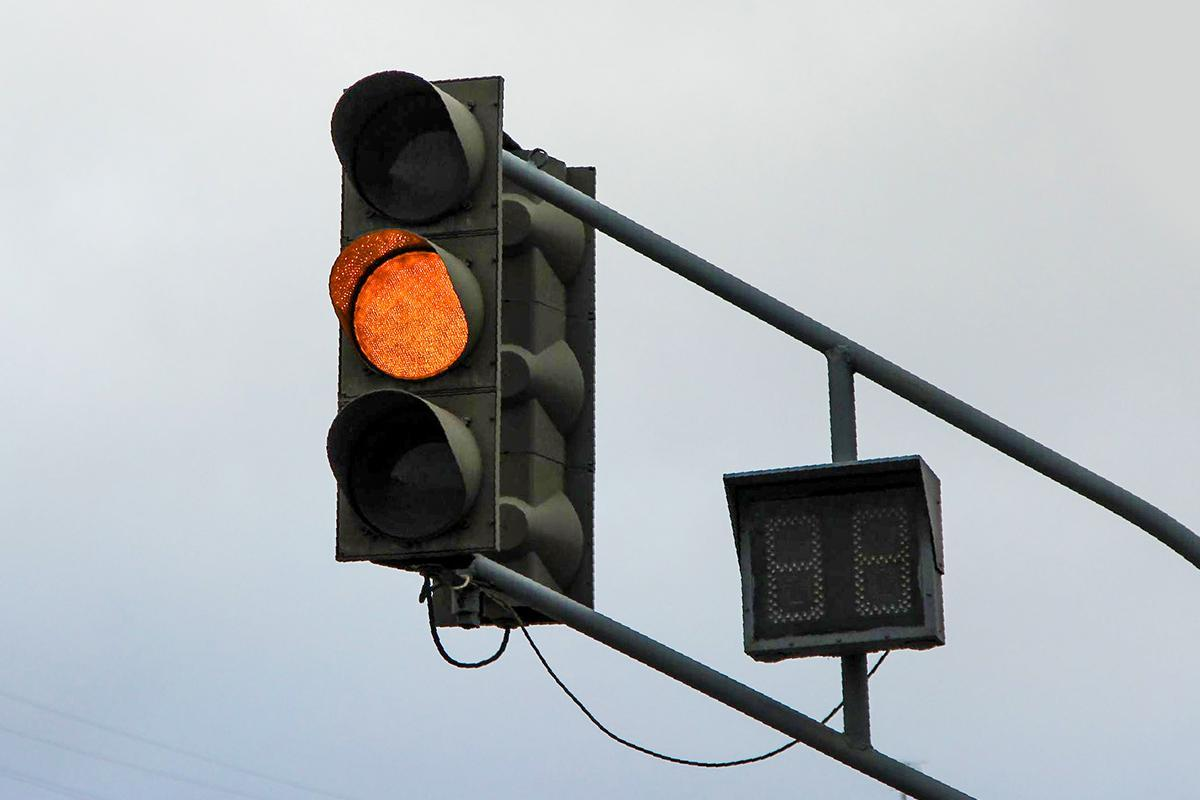off traffic light: (729, 454, 940, 651)
traffic light: (328, 72, 502, 557)
